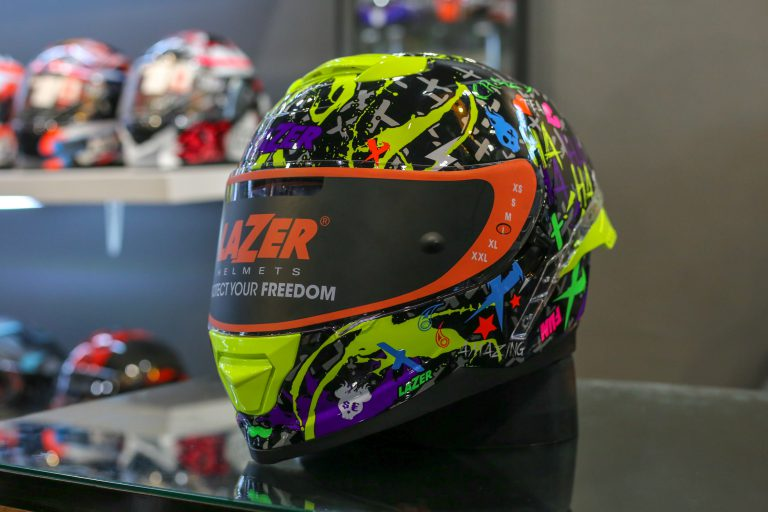helmet: (208, 53, 617, 463)
